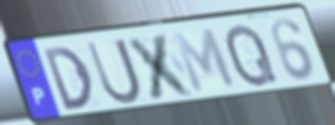6: (269, 16, 317, 84)
D: (40, 44, 97, 113)
M: (170, 26, 240, 96)
Q: (223, 22, 281, 90)
U: (83, 36, 144, 108)
X: (123, 30, 199, 102)
